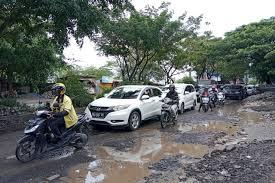Pothole: (35, 148, 227, 183), (128, 116, 248, 161), (213, 93, 271, 135)
